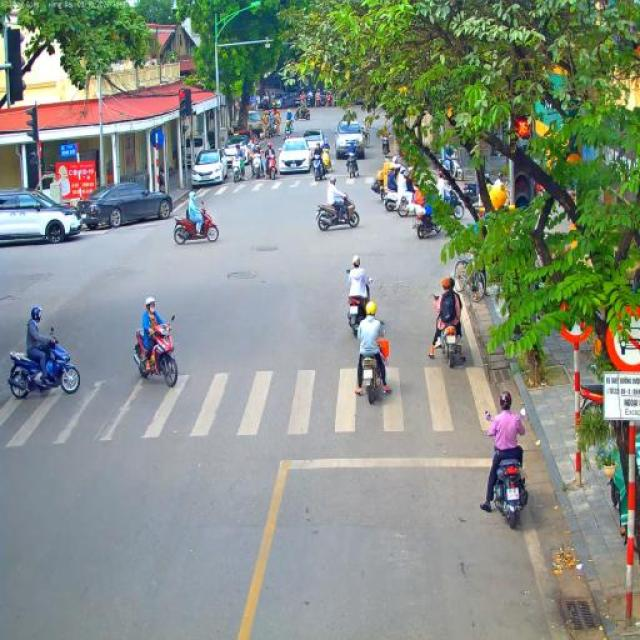car: (0, 186, 81, 244), (76, 182, 173, 229), (191, 148, 228, 188), (276, 136, 312, 176), (334, 119, 365, 160), (221, 135, 250, 166), (302, 128, 328, 152), (270, 92, 300, 109), (232, 128, 253, 152)
motorcycle: (8, 326, 82, 399), (485, 410, 529, 530), (134, 315, 178, 387), (172, 200, 220, 246), (360, 338, 390, 403), (315, 192, 361, 232), (347, 270, 372, 338), (438, 320, 467, 368), (412, 208, 442, 240), (382, 187, 412, 218), (440, 186, 464, 220), (575, 382, 604, 407), (440, 158, 465, 182), (378, 177, 397, 202), (462, 180, 480, 204), (310, 154, 326, 181), (345, 152, 360, 179), (264, 154, 278, 180), (251, 151, 263, 179), (232, 156, 244, 184), (321, 148, 332, 174), (380, 136, 391, 158), (294, 108, 311, 121), (266, 121, 276, 138), (284, 127, 294, 141), (306, 96, 314, 108), (325, 96, 333, 108), (299, 96, 307, 108), (315, 96, 321, 108)
truck: (246, 110, 264, 138)
